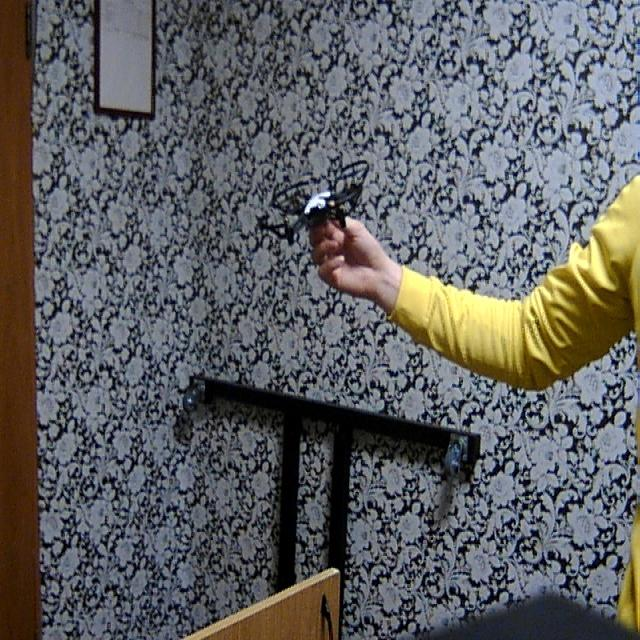drone: (253, 155, 375, 266)
